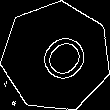O_SW: (23, 23, 89, 90)
